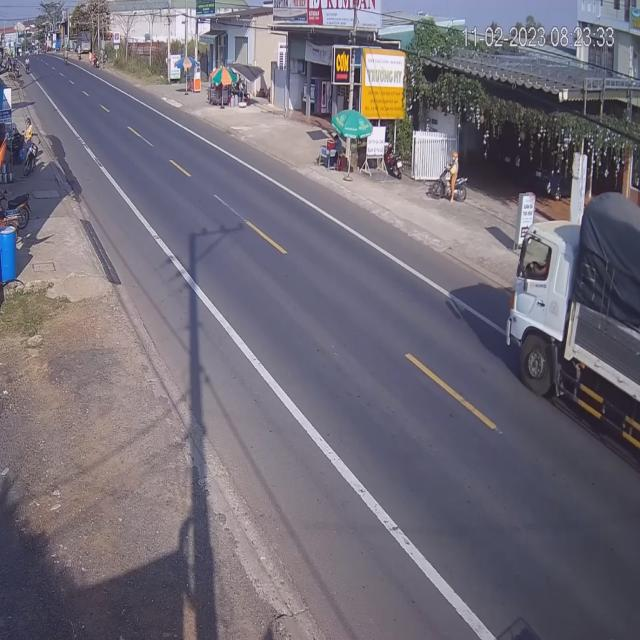truck: (510, 193, 640, 456)
